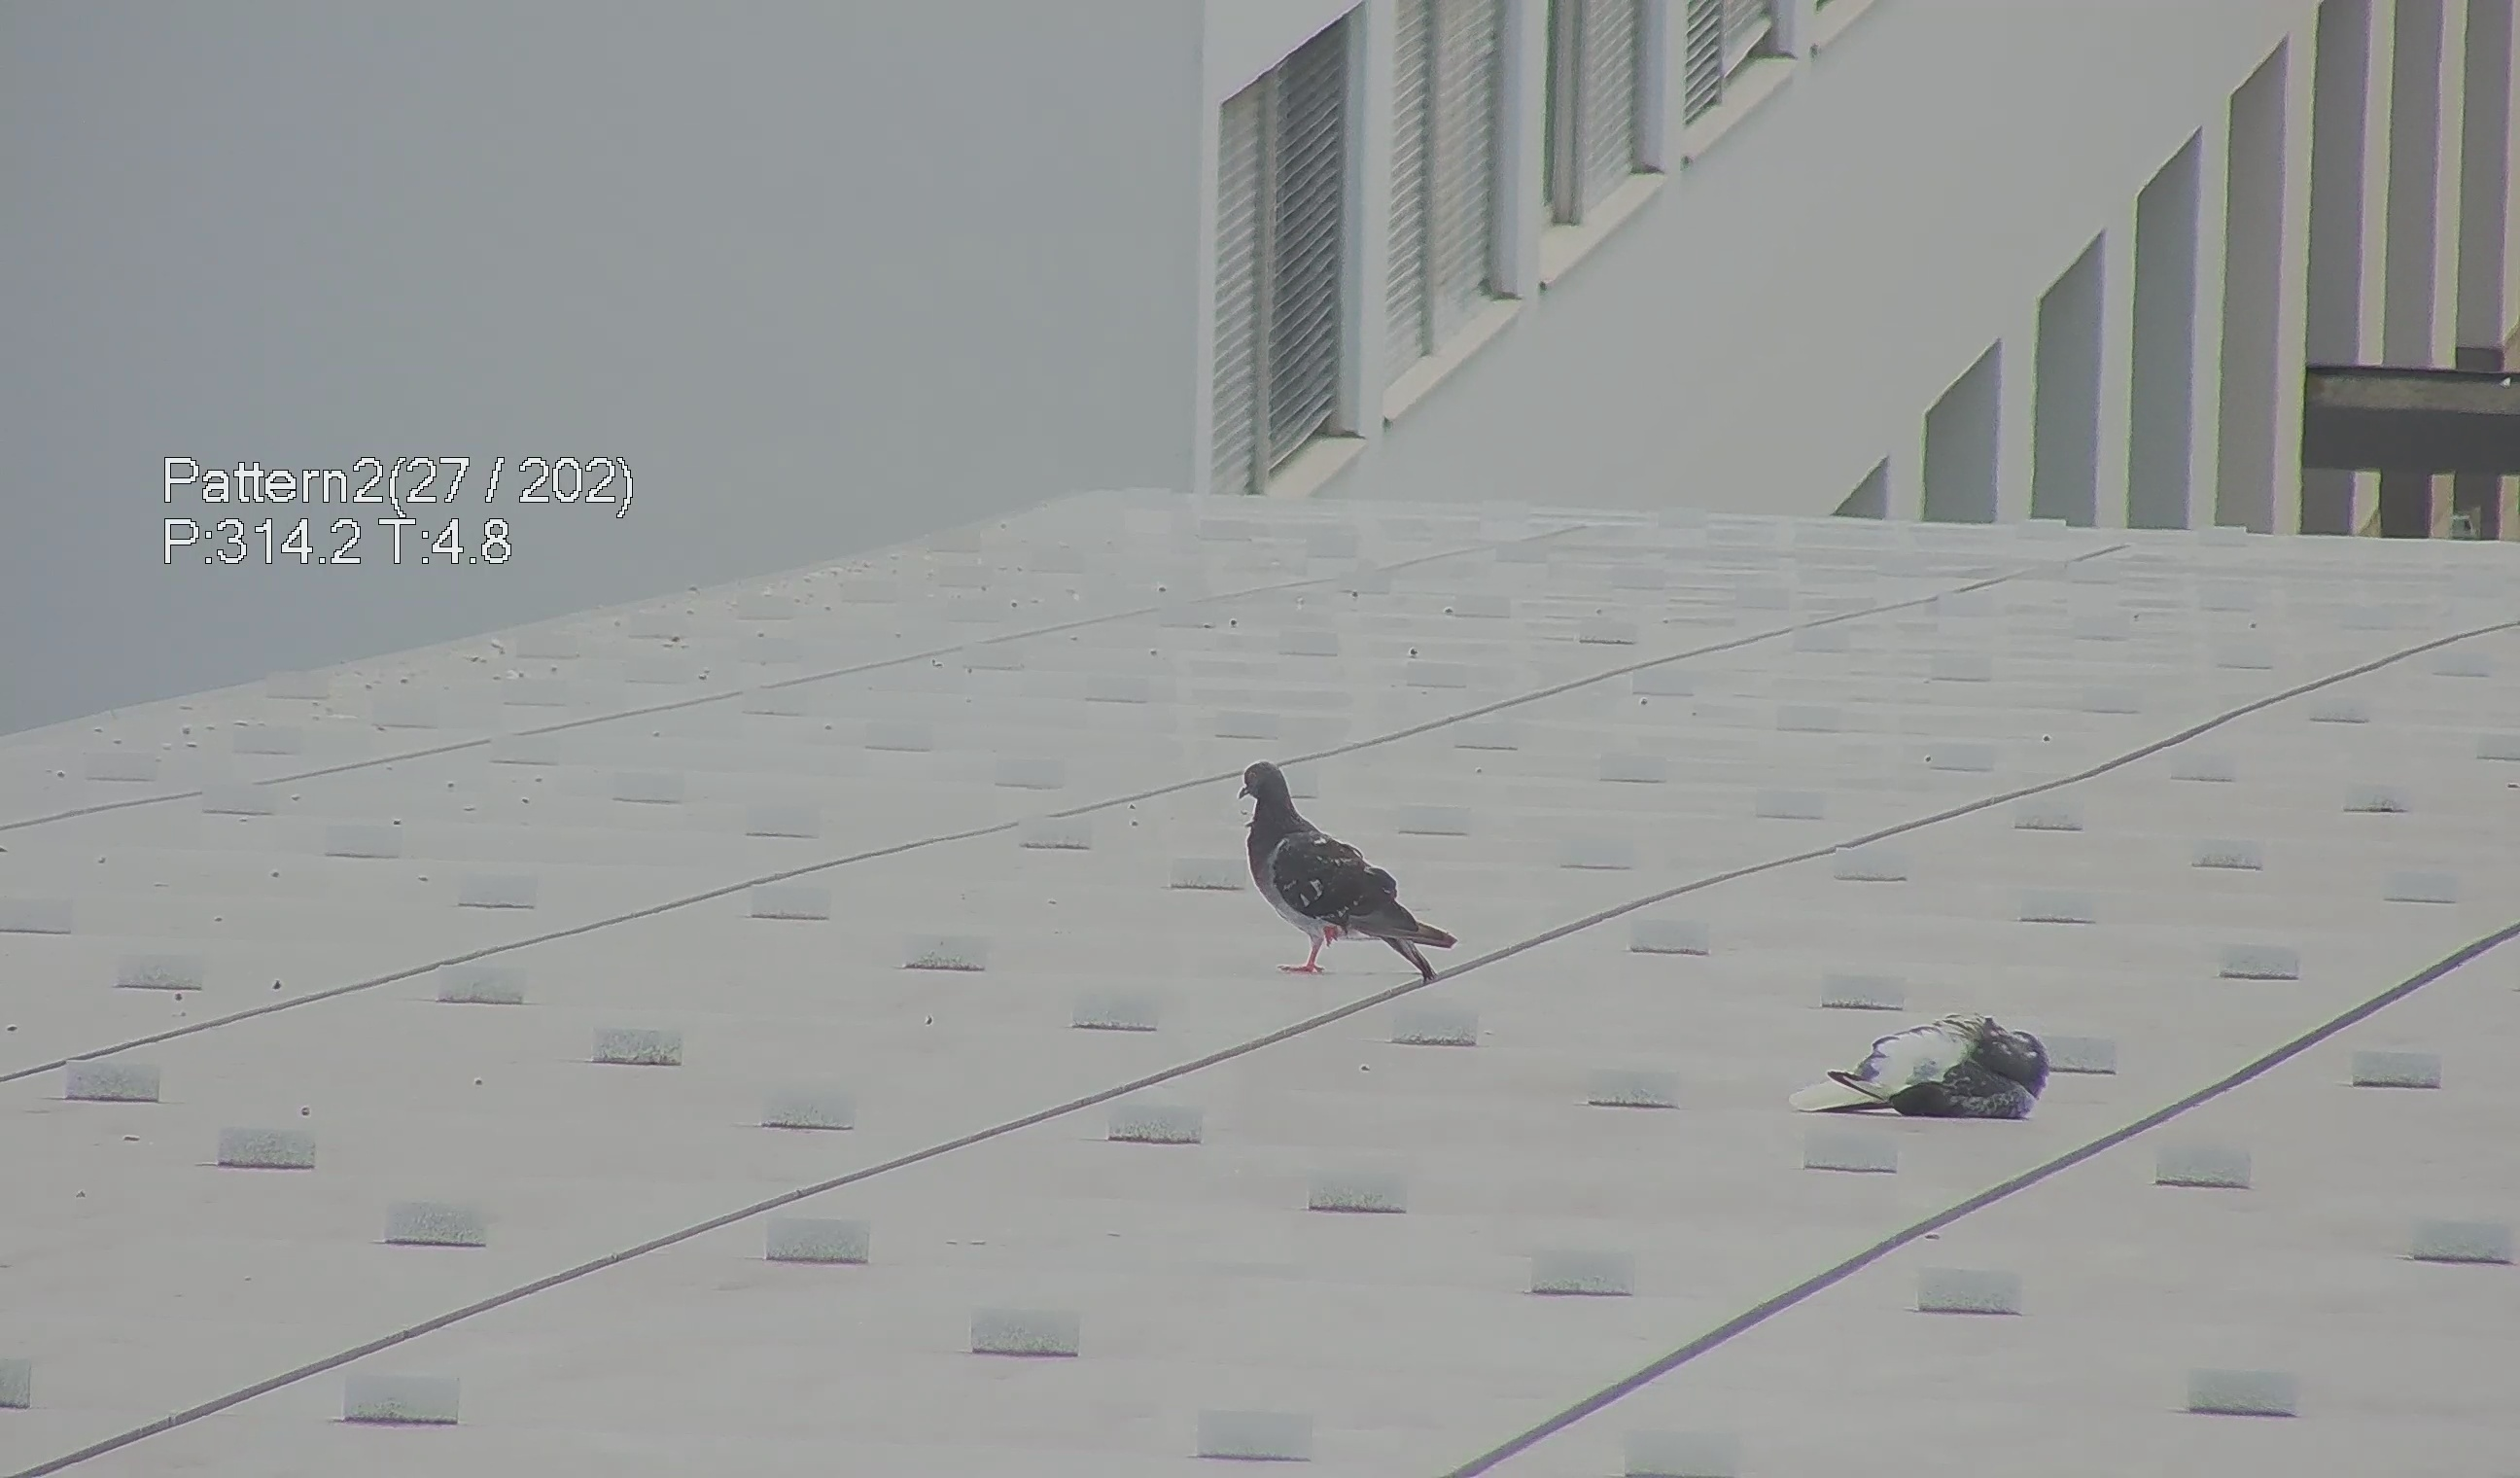Pigeon: (1226, 757, 1465, 1003), (1783, 1001, 2086, 1140)
